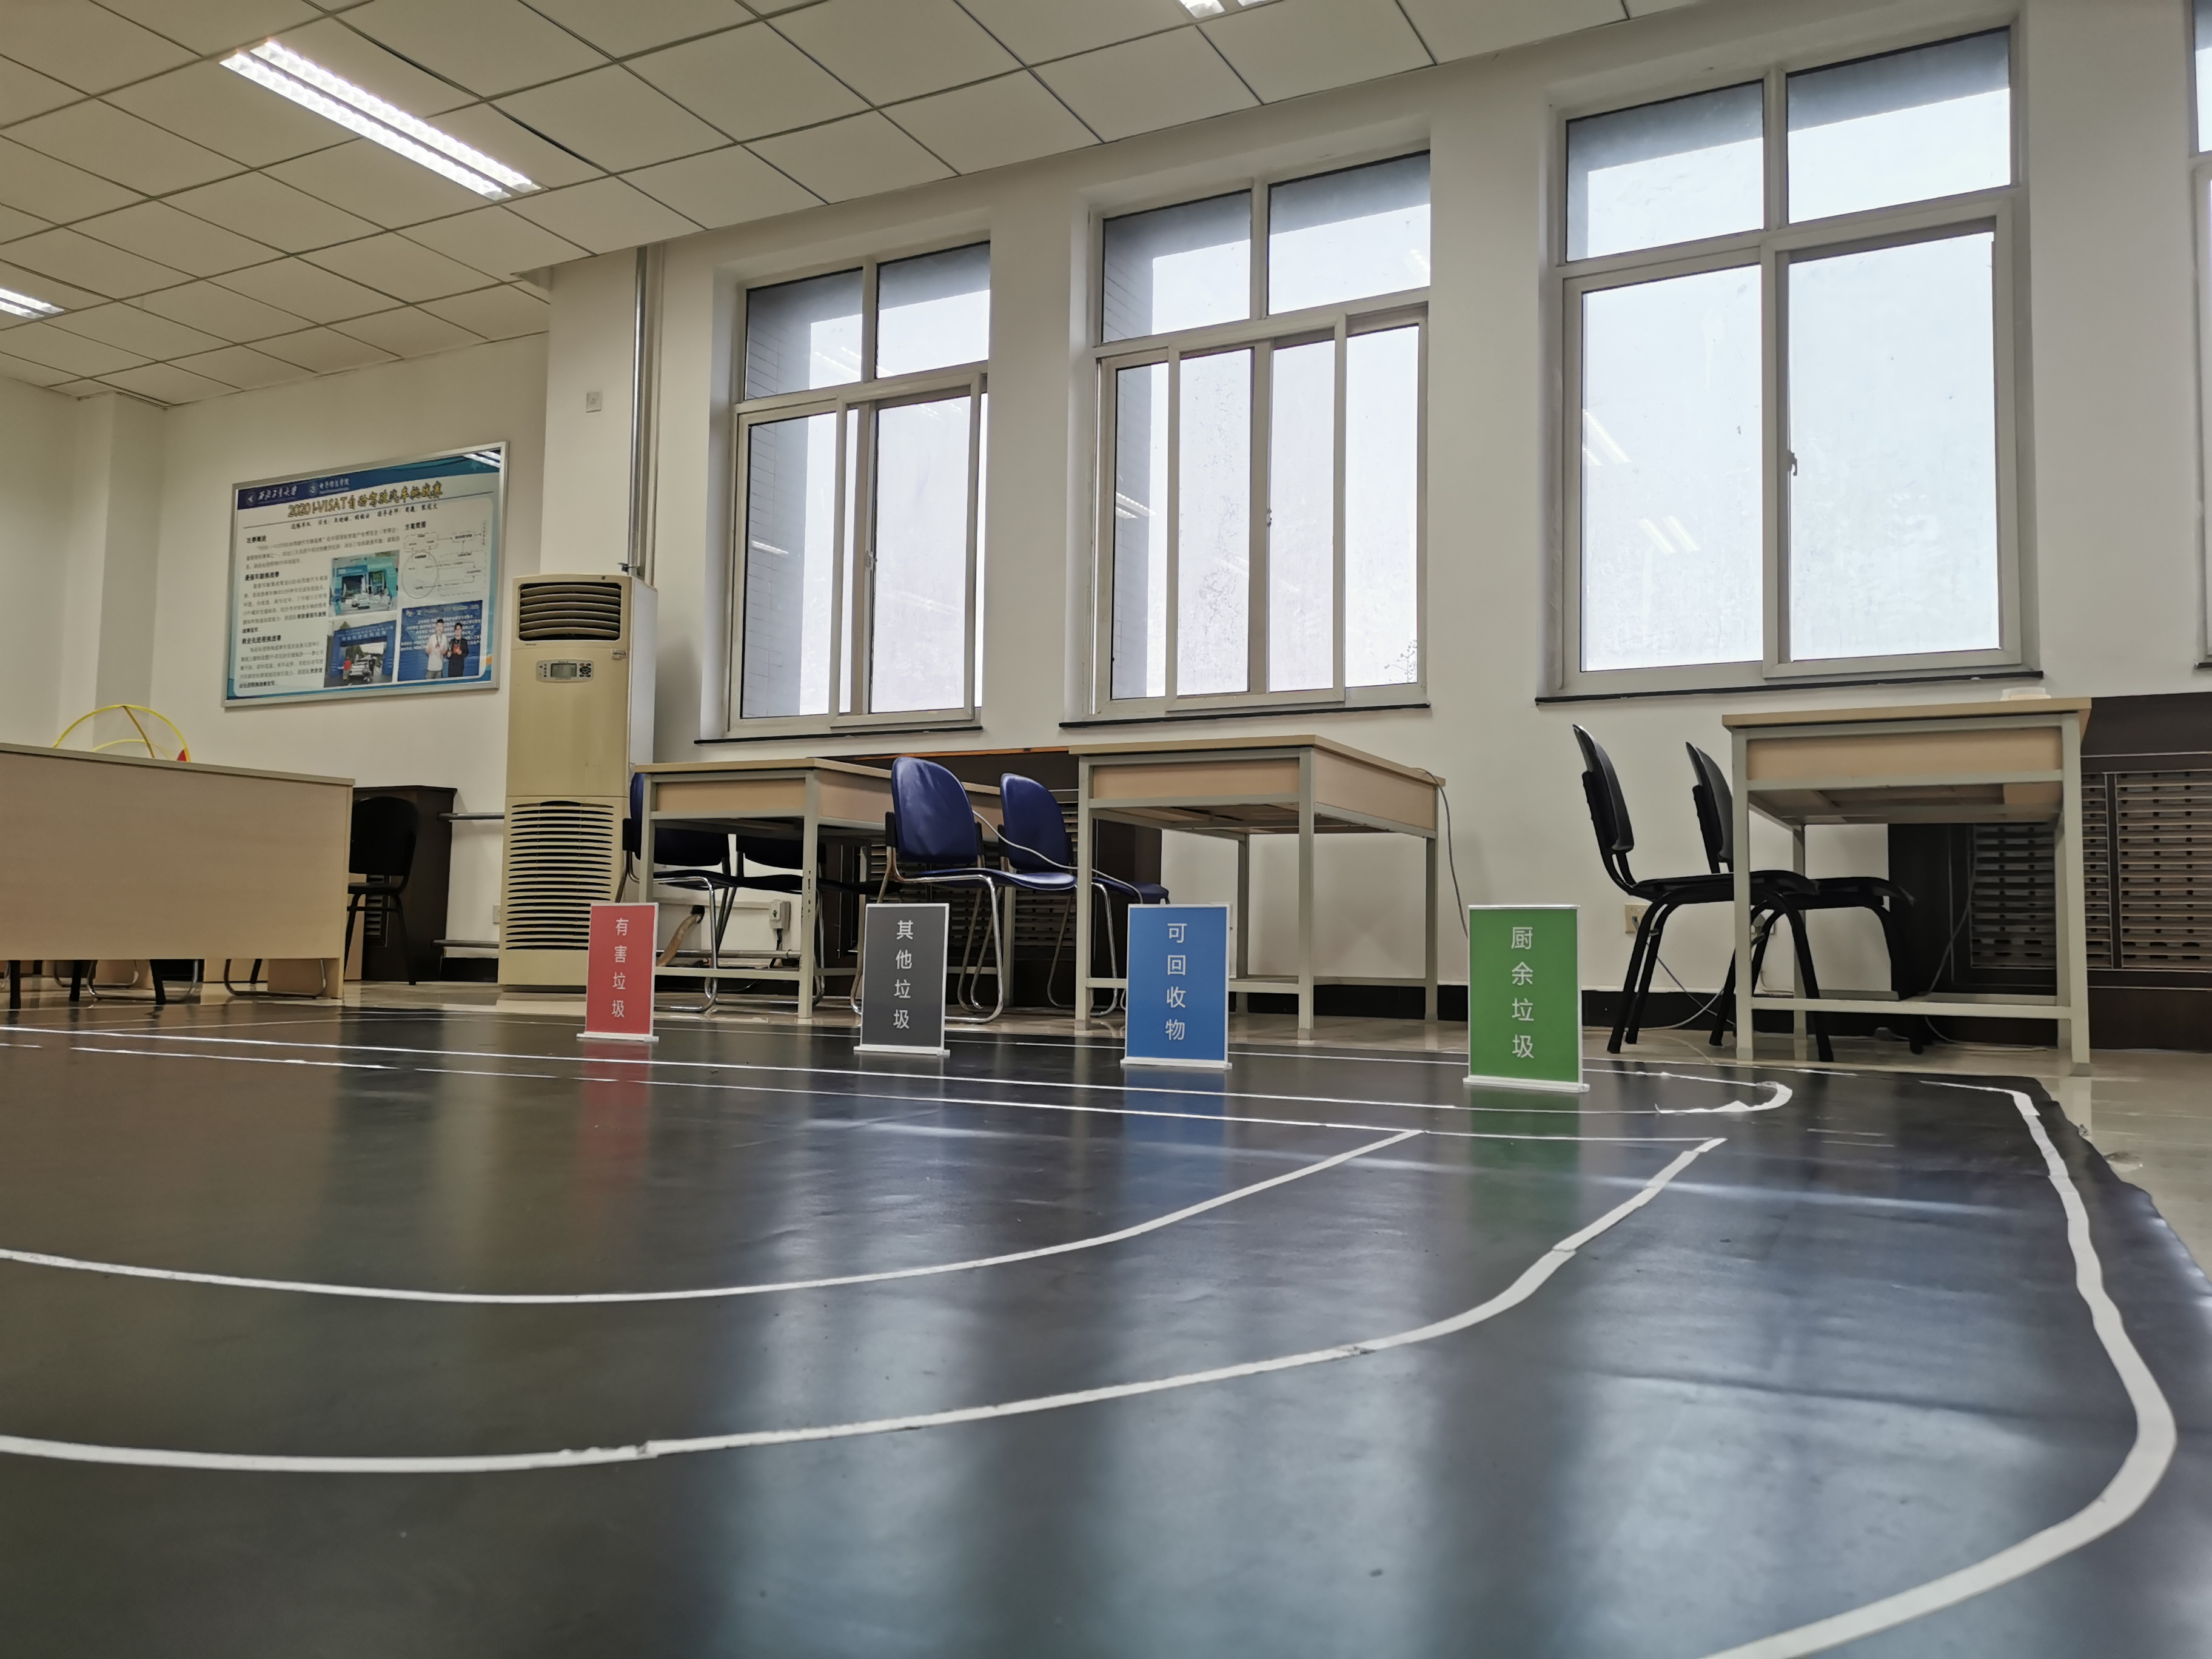black: (871, 913, 937, 1040)
blue: (1134, 910, 1219, 1051)
green: (1472, 910, 1578, 1070)
red: (596, 908, 648, 1030)
